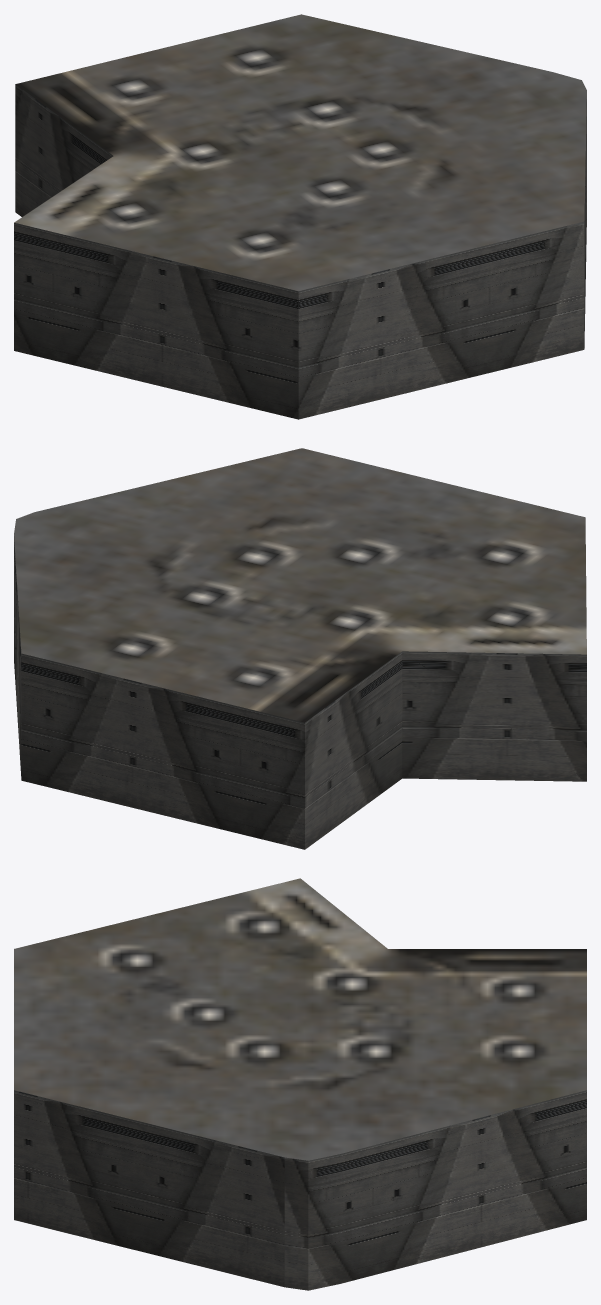
File: fortress_medium_65.glb
3 views of the same model, one above another, from view 1: azimuth 30°, elevation 25°; view 2: azimuth 150°, elevation 25°; view 3: azimuth 270°, elevation 25° (orthographic). The views are drawn at different scales.
Parts seen in each view (by area): view 1: buildings/saxarba/fortress_medium/fortress_medium_65; view 2: buildings/saxarba/fortress_medium/fortress_medium_65; view 3: buildings/saxarba/fortress_medium/fortress_medium_65.
Boxes of the visible parts, left/top/right/bottom form: buildings/saxarba/fortress_medium/fortress_medium_65: left=14, top=14, right=586, bottom=419; buildings/saxarba/fortress_medium/fortress_medium_65: left=14, top=448, right=586, bottom=849; buildings/saxarba/fortress_medium/fortress_medium_65: left=14, top=878, right=586, bottom=1290.
Bounding box in the file's own units: 84 × 18 × 72.
